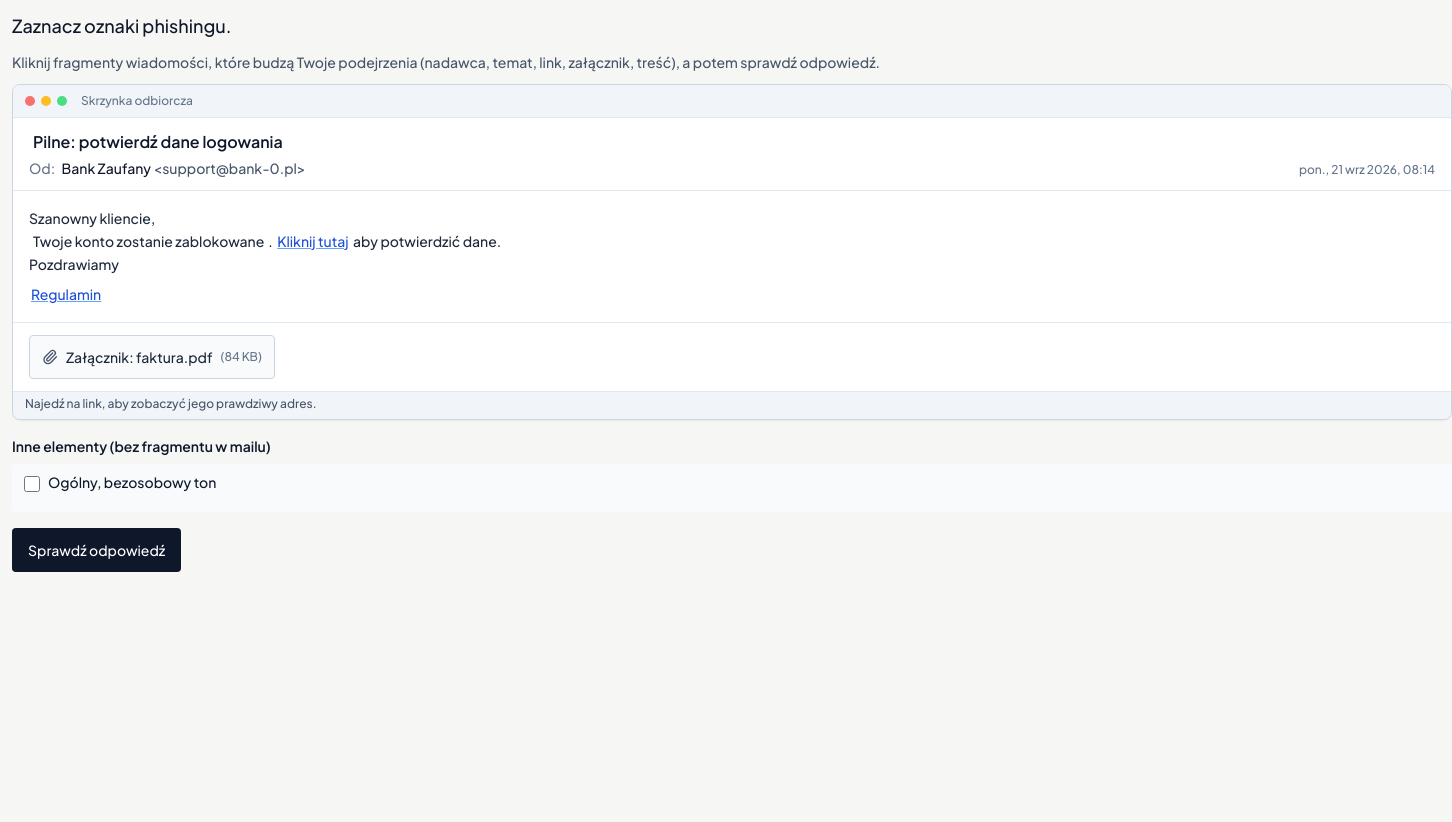
Scenario: EmailAnalysisBlock: link nigdy nie nawiguje, adres w pasku statusu › kliknięcie przypina adres w pasku, zaznacza kryterium linku i nie zmienia adresu strony
Click the button "Kliknij tutaj" at (313, 241), box [275, 230, 351, 253]
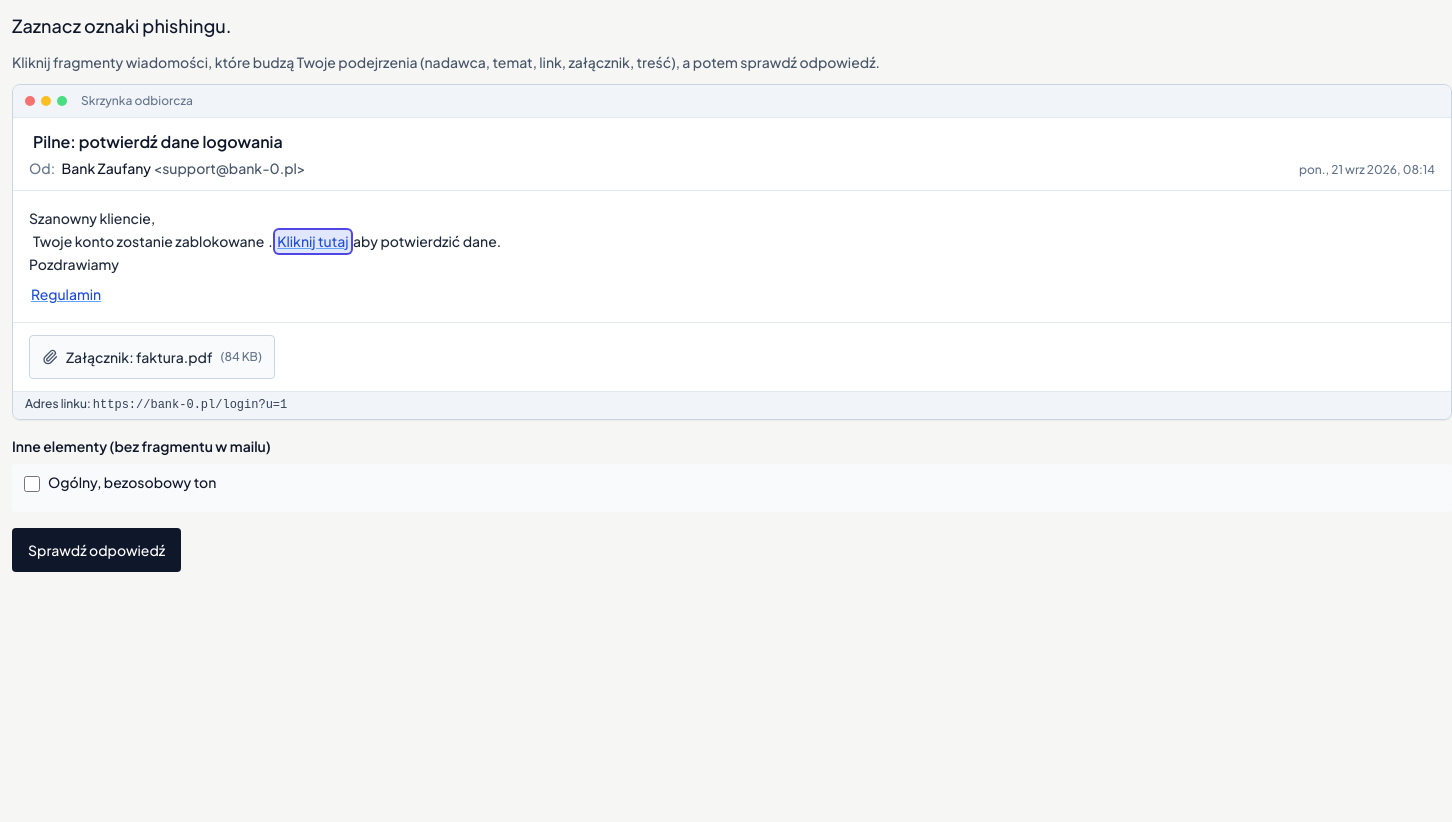
Now the message with test id "mail-status-bar" shows "https://bank-0.pl/login?u=1", box [93, 398, 287, 412]
